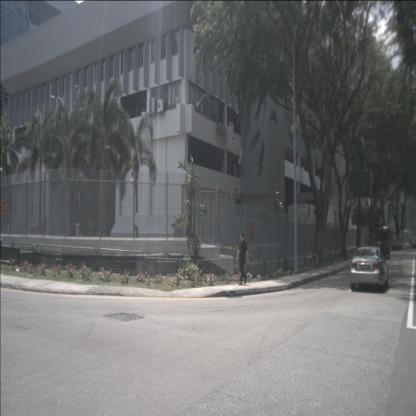human-pedestrian-adult: (236, 233, 249, 286)
vehicle-car: (350, 246, 389, 293)
vehicle-truck: (371, 227, 390, 259), (390, 236, 402, 251)
